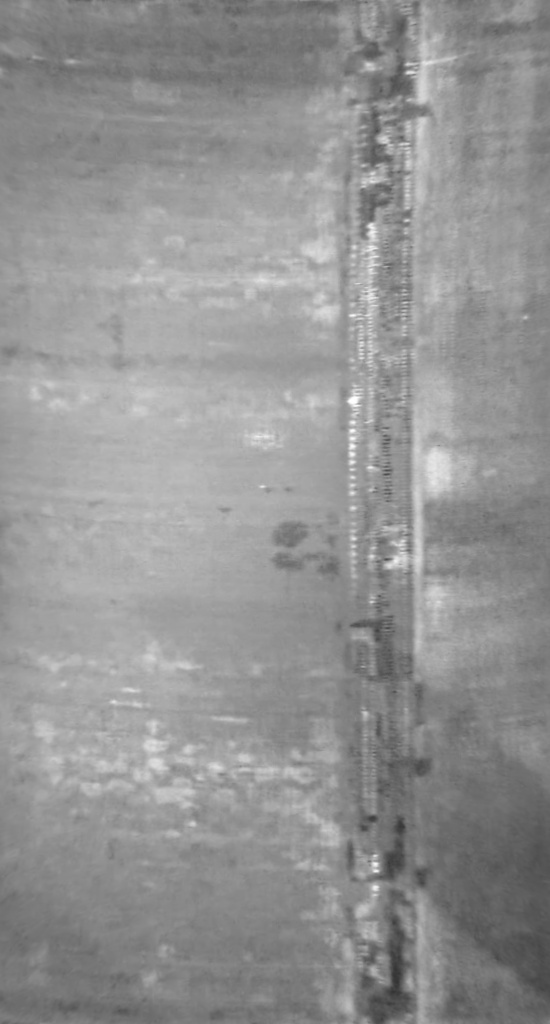splice: (333, 1, 430, 1022)
